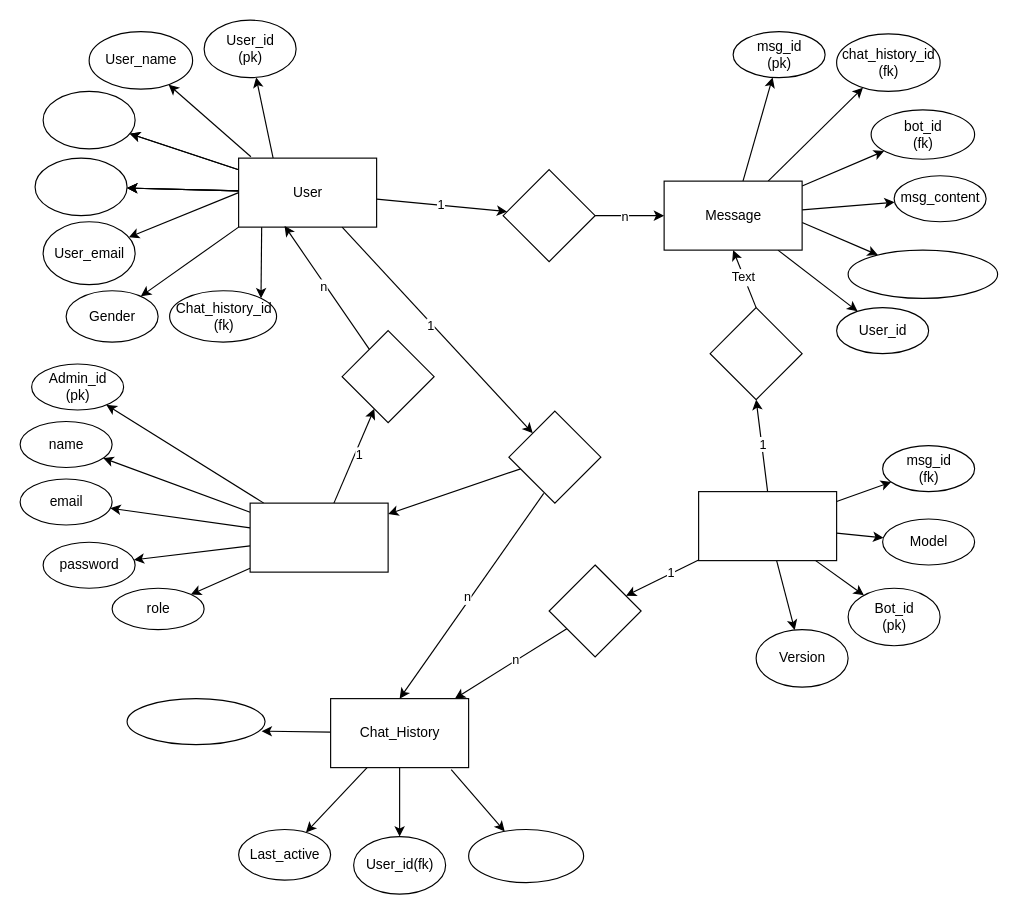
Some shapes in this 1018 by 914 pixel diagram are drawn without their labels. The shapes that lost their labels are listed below. From the top down, each one's centre as x and y in pixels, then its label:
the point at 88,119: user_age
the point at 80,186: User_location
the point at 548,215: sends
the point at 922,273: Sentiment_score
the point at 755,353: provides
the point at 387,376: Manages
the point at 554,456: Update
the point at 318,537: Admin
the point at 767,525: Chatbot
the point at 594,610: stores
the point at 195,721: Conv_Summary
the point at 525,855: Chat_history_id (pk)
